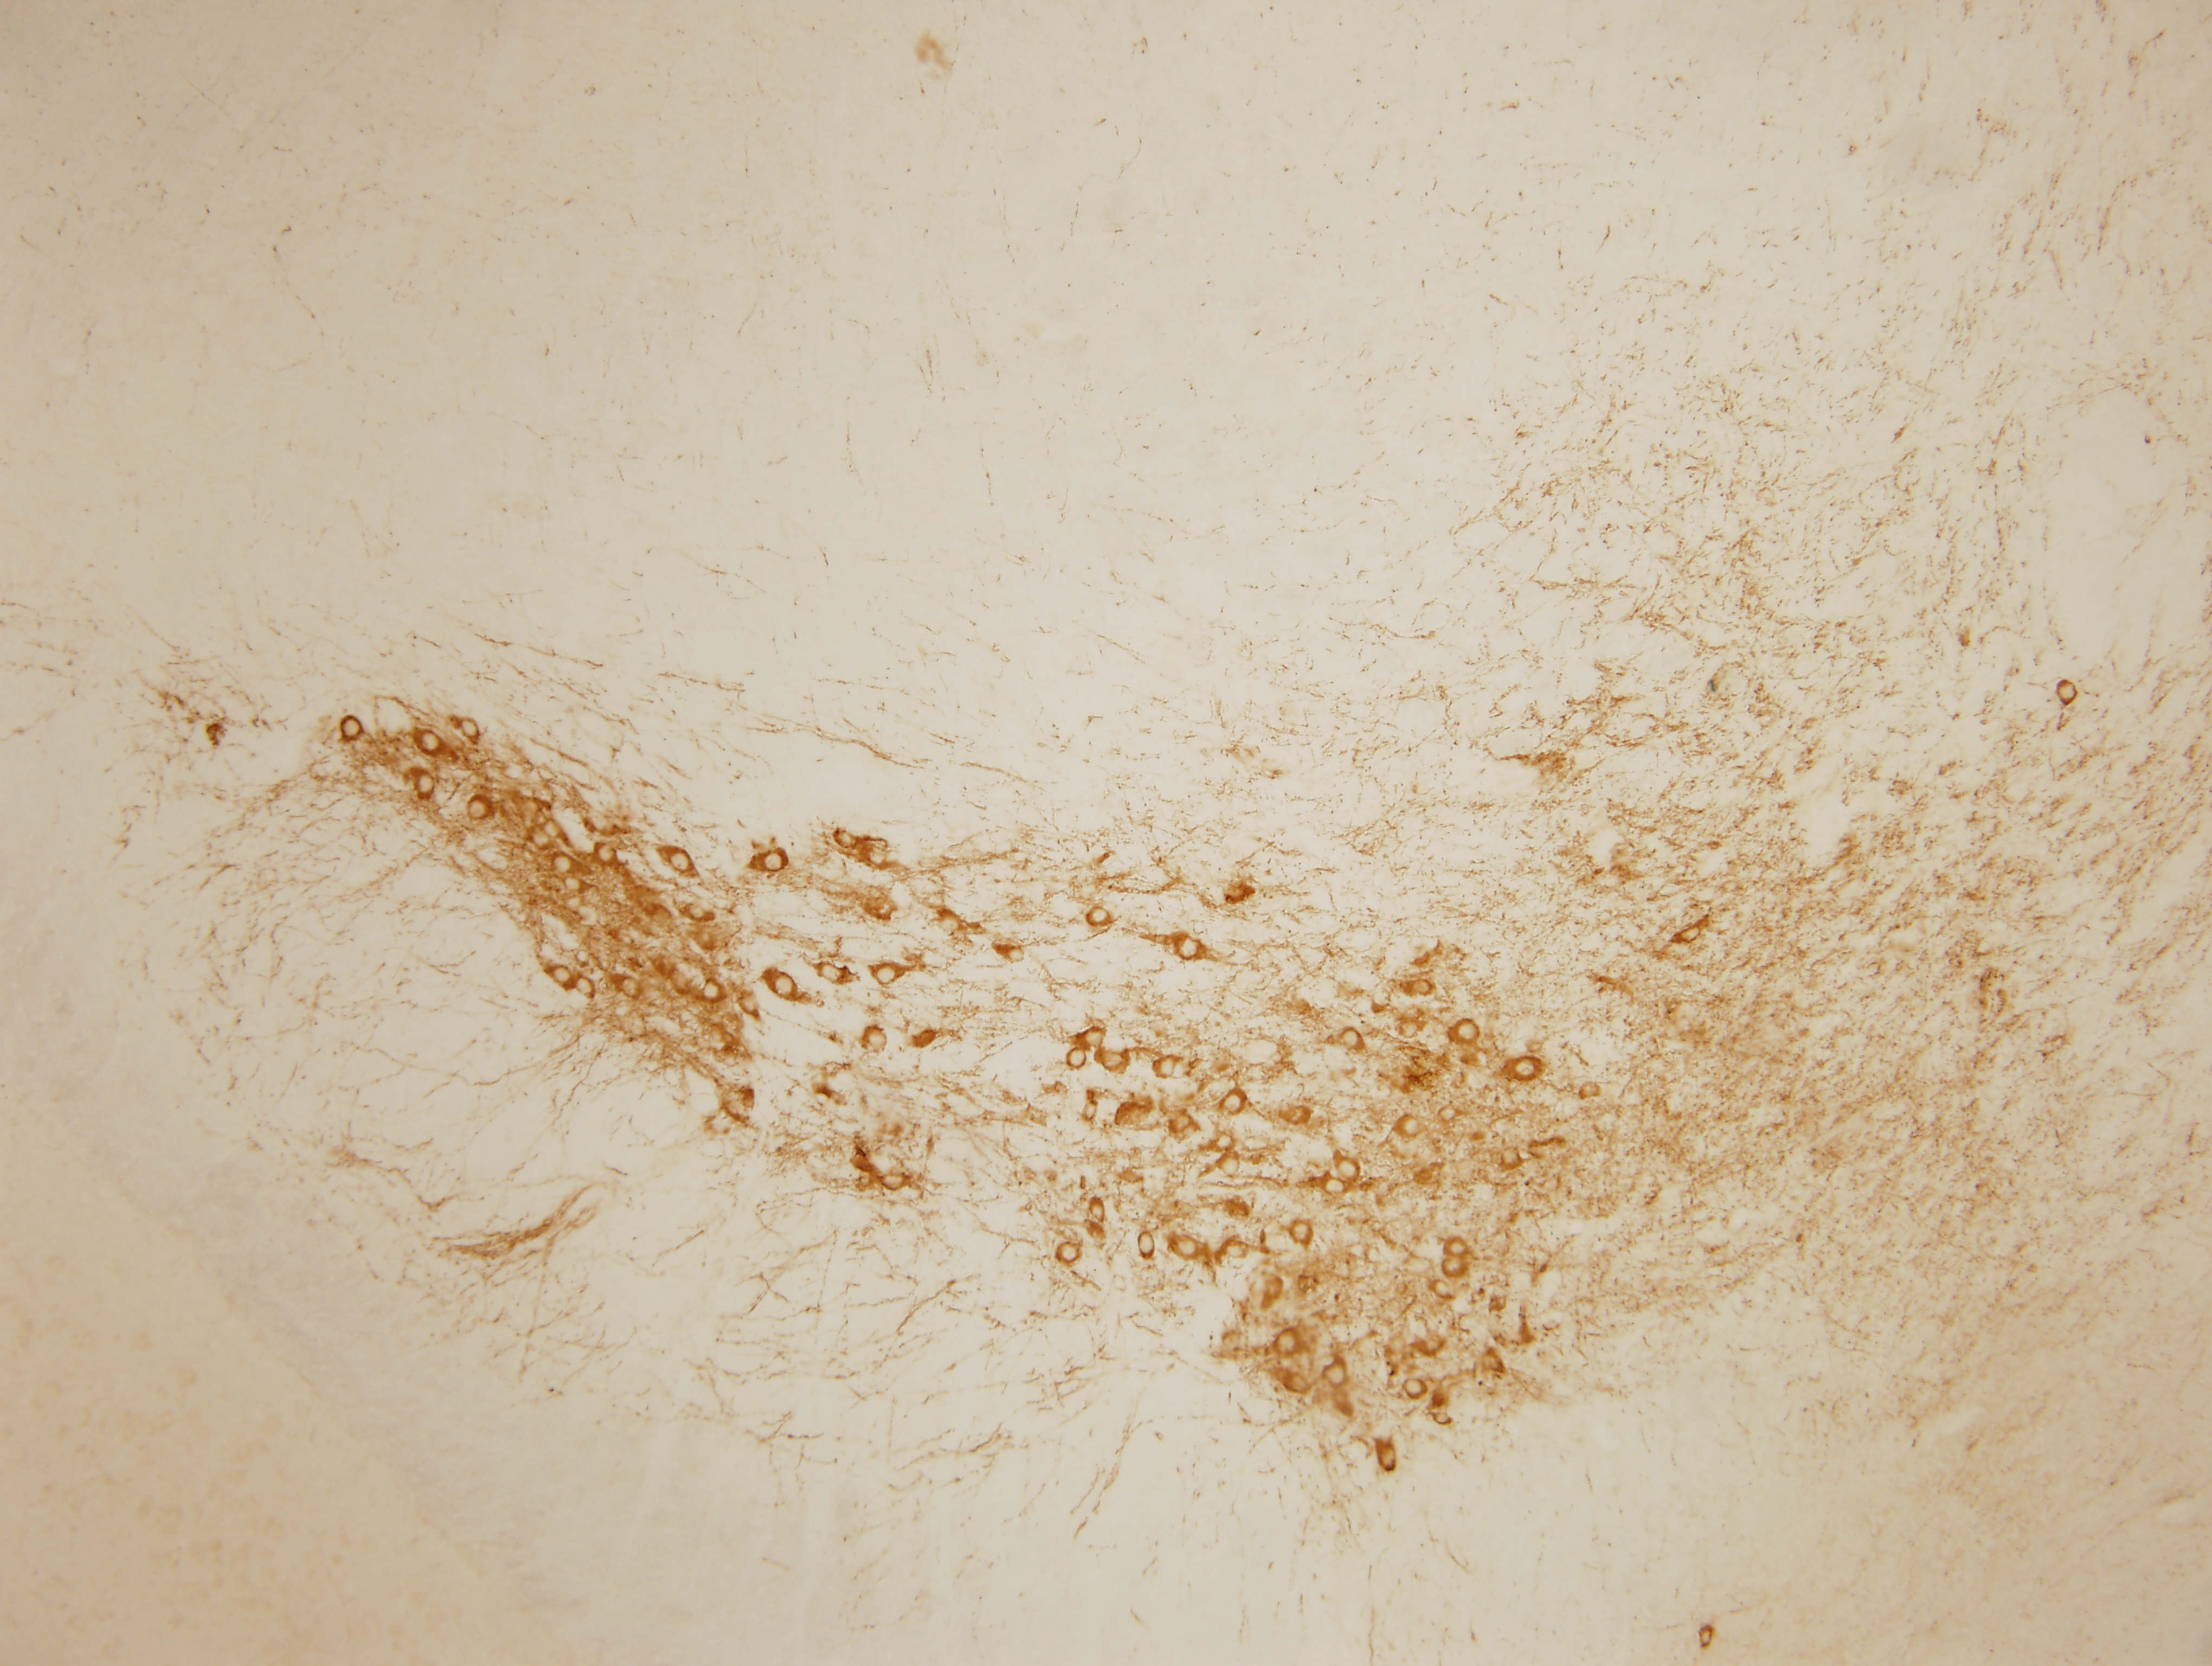neuron: (1168, 1230, 1201, 1263), (1318, 1360, 1352, 1393), (409, 770, 442, 803), (1131, 1229, 1163, 1262), (1287, 1216, 1318, 1249), (336, 712, 369, 744), (414, 726, 446, 760), (463, 791, 495, 824), (1271, 1328, 1303, 1360), (549, 963, 575, 989), (549, 852, 575, 878), (572, 975, 598, 1001), (619, 975, 645, 1001), (668, 849, 694, 875), (699, 976, 726, 1003), (762, 851, 789, 877), (771, 973, 797, 999), (864, 1027, 890, 1054), (874, 963, 901, 989), (881, 1169, 908, 1195), (1054, 1241, 1081, 1267), (1063, 1046, 1089, 1073), (1077, 1099, 1103, 1125), (1154, 1055, 1180, 1081), (1217, 1153, 1243, 1179), (1221, 1090, 1247, 1116), (1222, 1237, 1249, 1263), (1336, 1157, 1362, 1183), (1402, 1376, 1429, 1402), (1429, 1276, 1455, 1302), (1443, 1253, 1469, 1279), (1444, 1236, 1471, 1262), (1455, 1019, 1481, 1045), (1513, 1055, 1539, 1081), (2055, 679, 2081, 705), (456, 716, 483, 742), (528, 826, 554, 852), (595, 842, 619, 868), (818, 961, 845, 985), (1177, 936, 1203, 961), (1324, 1176, 1348, 1202), (1679, 922, 1703, 949), (1694, 1626, 1719, 1652), (1007, 945, 1026, 966), (542, 819, 561, 838), (563, 875, 582, 894), (575, 949, 595, 968), (1084, 1027, 1103, 1046), (1089, 1204, 1109, 1223), (1091, 906, 1110, 926), (1214, 1132, 1233, 1152), (1341, 1029, 1360, 1048), (1402, 1116, 1422, 1136), (1439, 1106, 1458, 1125)
